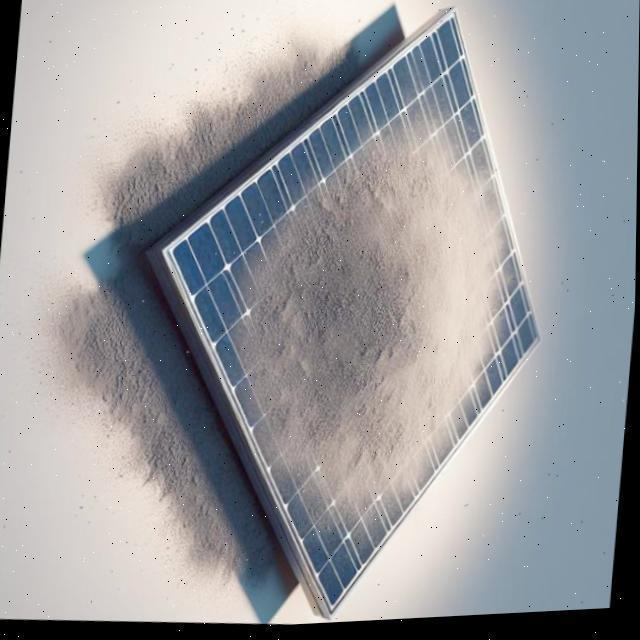Anomaly Solar Panel: (136, 18, 628, 615)
Surface Contaminant: (158, 64, 599, 565)
